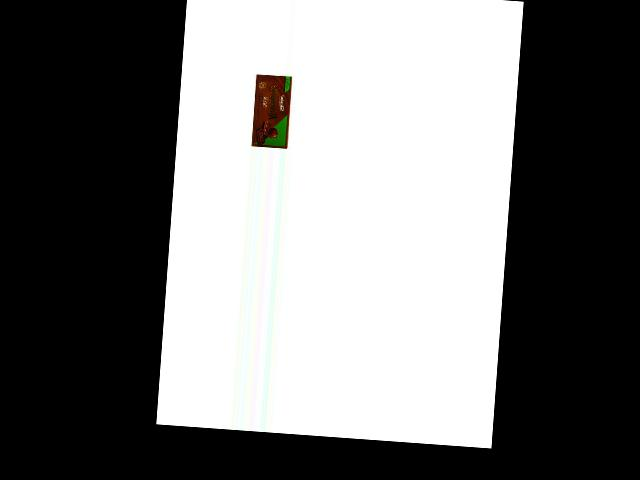chocolate: (249, 71, 295, 149)
